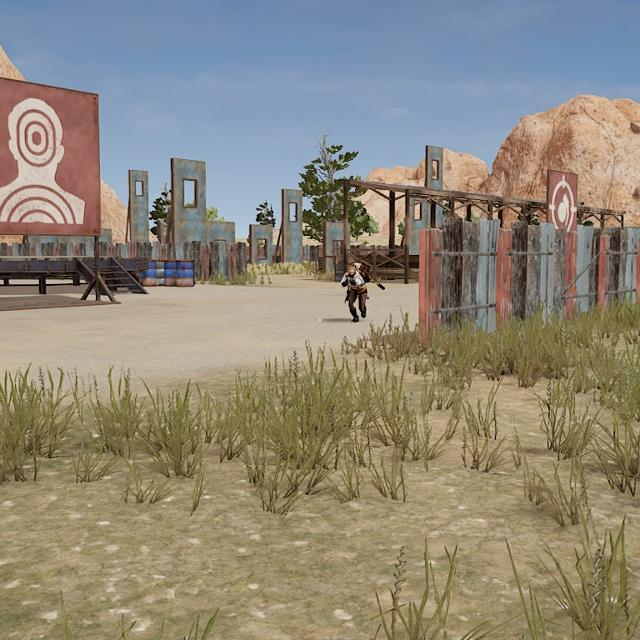head: (345, 263, 358, 279)
people: (340, 263, 370, 323)
